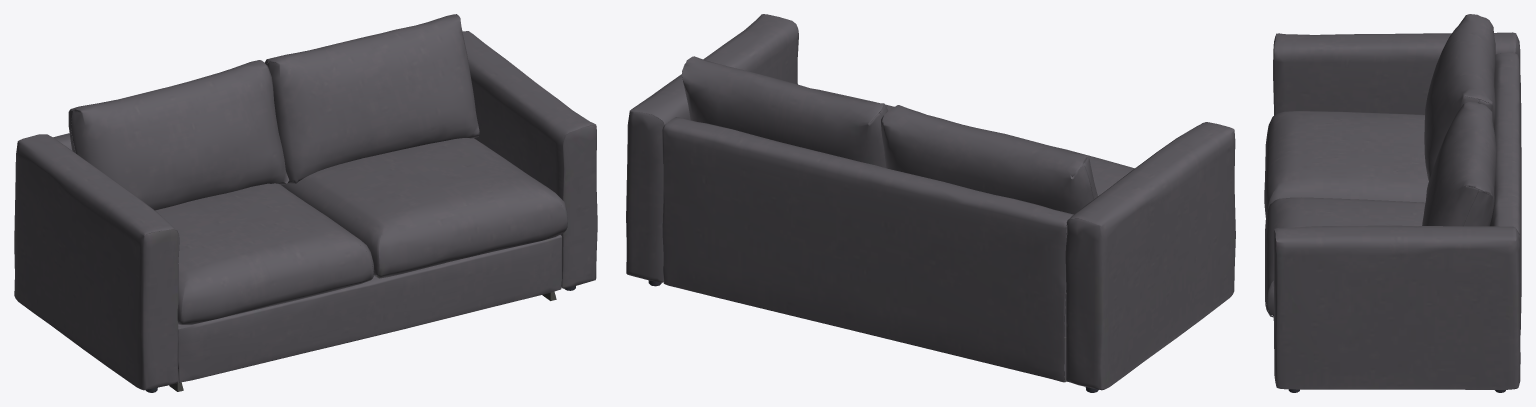
The model's file is cover-gunnared-srednioszary.glb.
3 views of the same model, side by side, from view 1: azimuth 30°, elevation 25°; view 2: azimuth 150°, elevation 25°; view 3: azimuth 270°, elevation 25° (orthographic). The views are drawn at different scales.
Parts seen in each view (by area): view 1: Mesh_0; view 2: Mesh_0; view 3: Mesh_0.
Part boxes in pixels (x1=…): Mesh_0: x1=14, y1=14, x2=597, y2=392; Mesh_0: x1=626, y1=14, x2=1235, y2=392; Mesh_0: x1=1264, y1=14, x2=1521, y2=392.
Bounding box in the file's own units: 1.9 × 0.8299 × 0.9801.
Materials: 2 (2 with a texture image).
